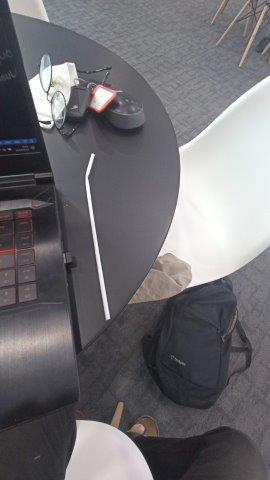sedotan: (86, 153, 110, 320)
